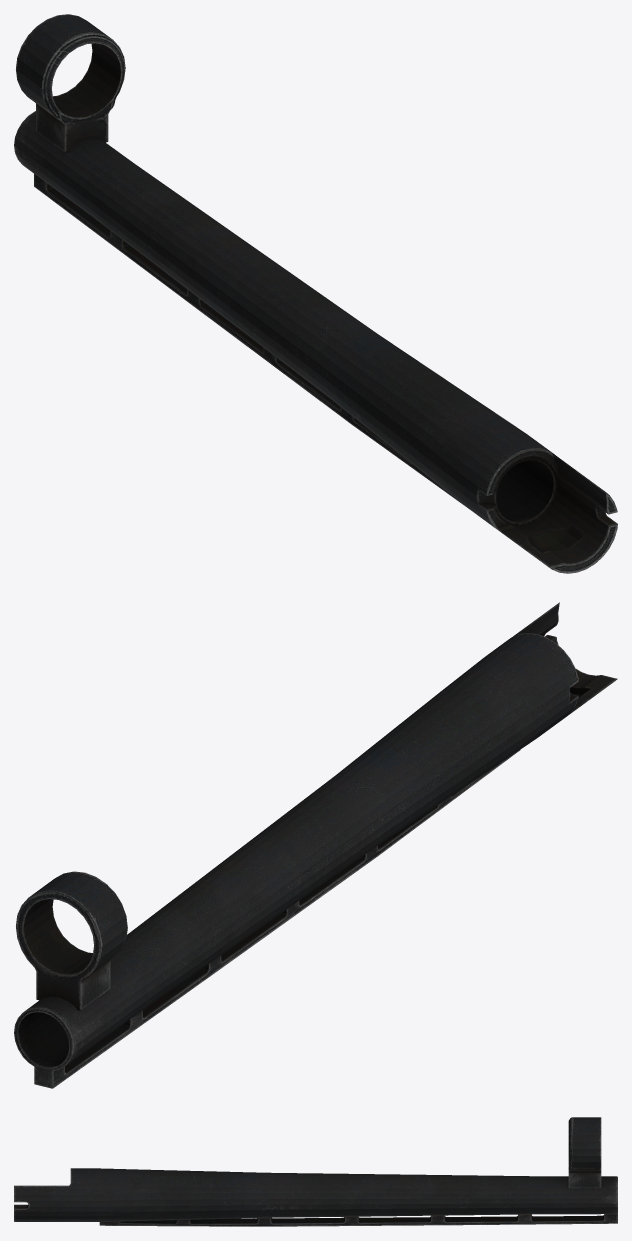
The picture shows the model from 3 angles, top to bottom: view 1: azimuth 30°, elevation 25°; view 2: azimuth 150°, elevation 25°; view 3: azimuth 270°, elevation 25°; orthographic projection. The views are drawn at different scales.
Parts seen in each view (by area): view 1: TW_5a787fdfc5856700142fdd9a_PZ_Import; view 2: TW_5a787fdfc5856700142fdd9a_PZ_Import; view 3: TW_5a787fdfc5856700142fdd9a_PZ_Import.
Part boxes in pixels (x1,y1,x2,y2): TW_5a787fdfc5856700142fdd9a_PZ_Import: (14, 14, 617, 573); TW_5a787fdfc5856700142fdd9a_PZ_Import: (14, 602, 617, 1088); TW_5a787fdfc5856700142fdd9a_PZ_Import: (14, 1117, 617, 1226).
Bounding box in the file's own units: 0.0188 × 0.2071 × 0.0396.
Materials: 1 (1 with a texture image).
